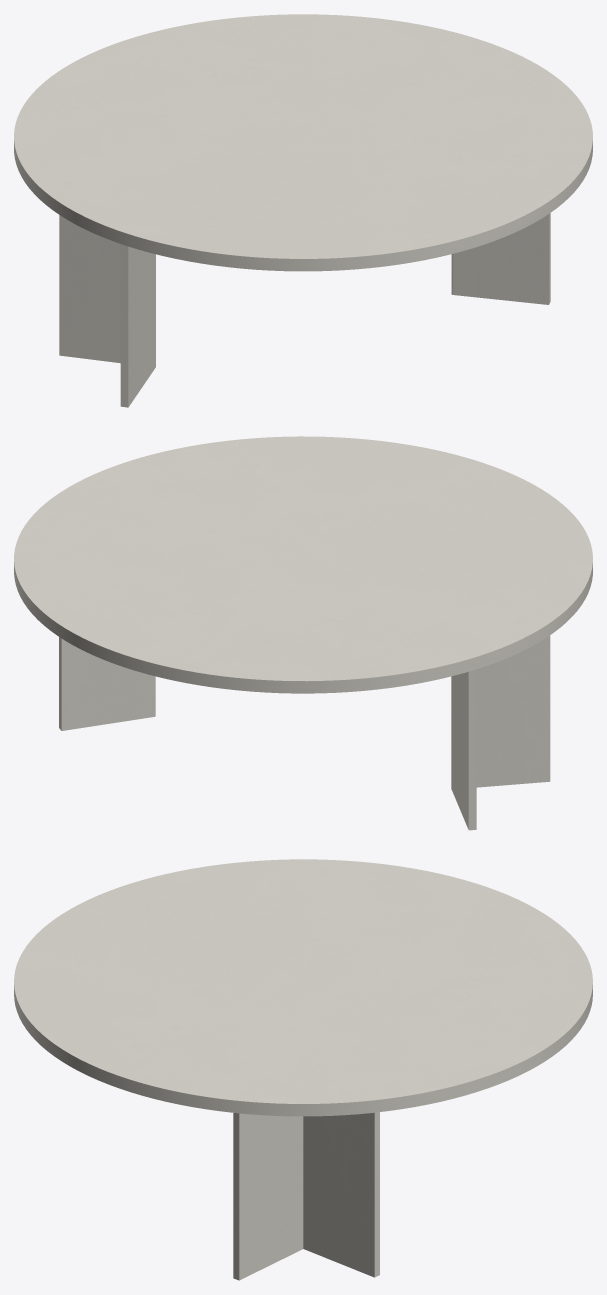
The model's file is pale_round_standard_valleyv.glb.
3 views of the same model, one above another, from view 1: azimuth 30°, elevation 25°; view 2: azimuth 150°, elevation 25°; view 3: azimuth 270°, elevation 25° (orthographic).
Parts seen in each view (by area): view 1: standard_round, valleyv; view 2: standard_round, valleyv; view 3: standard_round, valleyv.
Boxes of the visible parts, left/top/right/bottom form: standard_round: left=14, top=14, right=592, bottom=271; valleyv: left=59, top=213, right=550, bottom=407; standard_round: left=14, top=436, right=592, bottom=693; valleyv: left=59, top=635, right=550, bottom=830; standard_round: left=14, top=859, right=592, bottom=1116; valleyv: left=233, top=1112, right=379, bottom=1280.
Bounding box in the file's own units: 6.75 × 2.5 × 6.75.
Materials: 1 (1 with a texture image).
